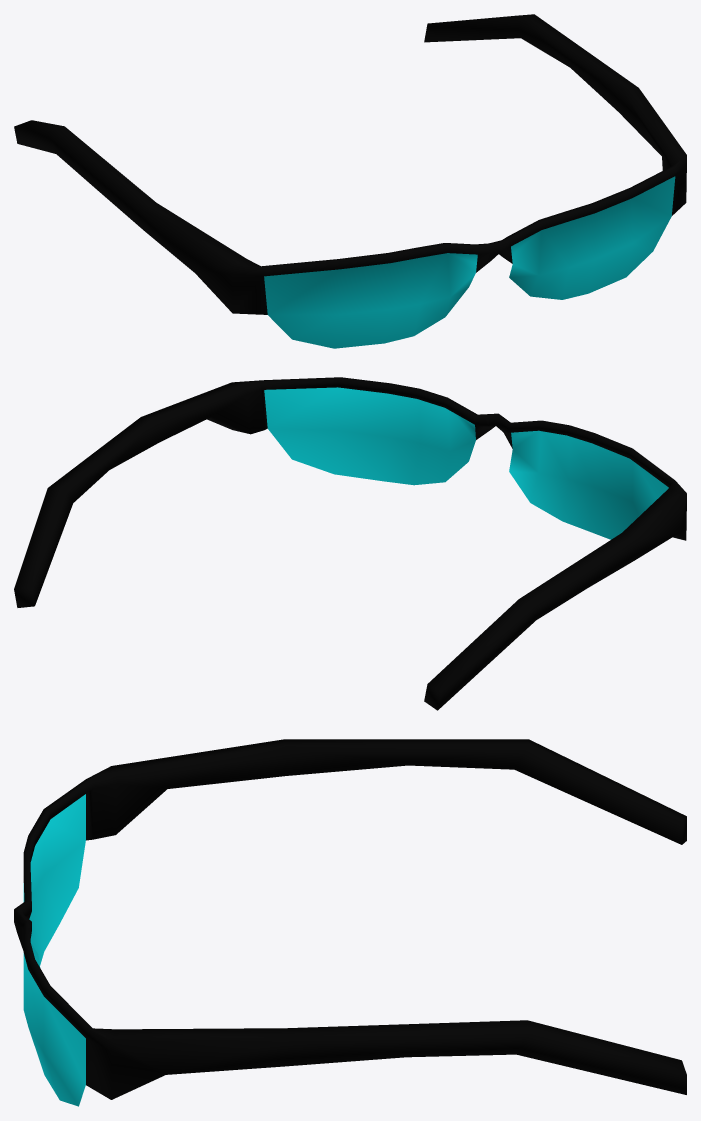
File: glass-1.fbx
3 renders of one model, top to bottom at view 1: azimuth 30°, elevation 25°; view 2: azimuth 150°, elevation 25°; view 3: azimuth 270°, elevation 25°, orthographic. The views are drawn at different scales.
Parts seen in each view (by area): view 1: Glasses; view 2: Glasses; view 3: Glasses.
Part boxes in pixels (box(x1,y1,x2,y2)): Glasses: box(14, 14, 686, 348); Glasses: box(14, 377, 686, 710); Glasses: box(14, 739, 686, 1106).
Size of the model in its own units: 866 by 175 by 816.
